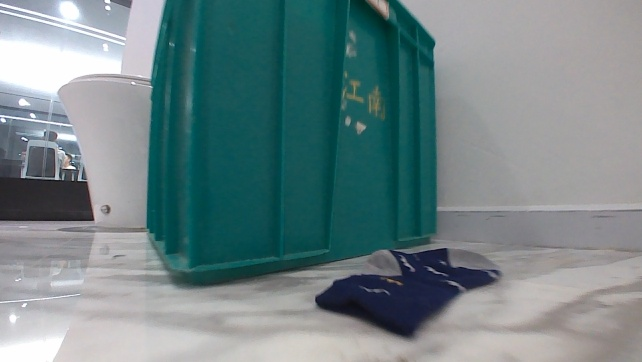socks: (311, 246, 506, 340)
toilet: (55, 71, 153, 232)
